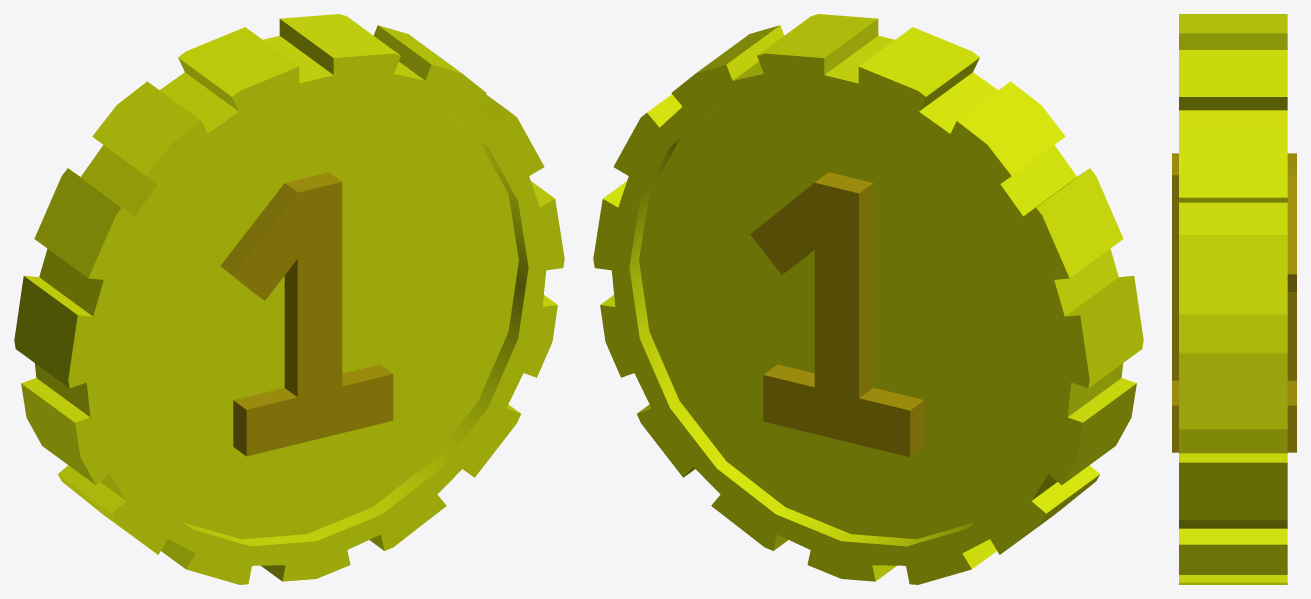
Rendered from 3D Coin.fbx.
3 renders of one model, left to right at view 1: azimuth 30°, elevation 25°; view 2: azimuth 150°, elevation 25°; view 3: azimuth 270°, elevation 25°, orthographic.
Parts seen in each view (by area): view 1: pCylinder6, polySurface1; view 2: pCylinder6, polySurface2; view 3: pCylinder6, polySurface2, polySurface1.
Boxes of the visible parts, x1=… form: pCylinder6: x1=14, y1=14, x2=564, y2=584; polySurface1: x1=220, y1=172, x2=393, y2=456; pCylinder6: x1=593, y1=14, x2=1143, y2=584; polySurface2: x1=750, y1=172, x2=924, y2=457; pCylinder6: x1=1179, y1=14, x2=1287, y2=584; polySurface2: x1=1287, y1=153, x2=1296, y2=452; polySurface1: x1=1172, y1=153, x2=1178, y2=452.
Size of the model in its own units: 2 by 1.99 by 0.4337.
